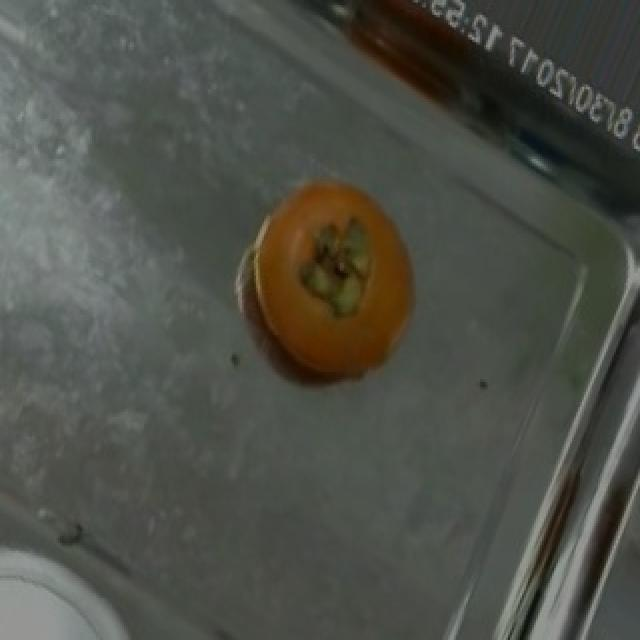Fruit: (218, 156, 442, 400)
